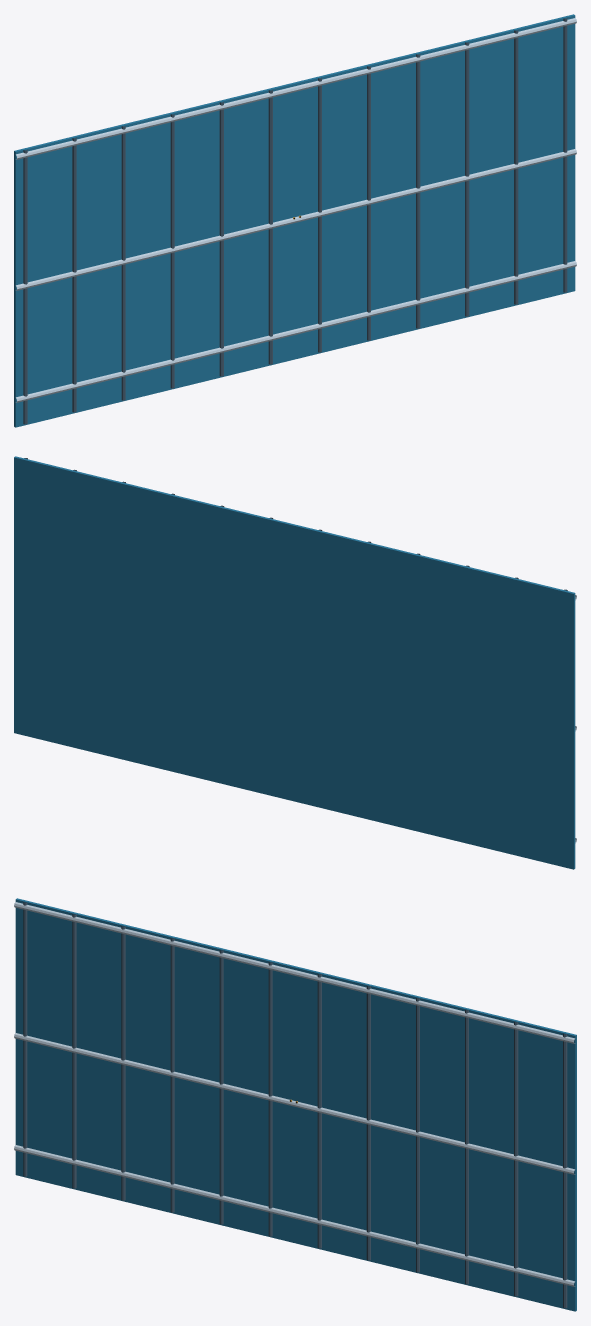
File: 01_L92_PanoramicKhepri7ObservationWindow.fbx
3 renders of one model, top to bottom at view 1: azimuth 30°, elevation 25°; view 2: azimuth 150°, elevation 25°; view 3: azimuth 330°, elevation 25°, orthographic.
Parts seen in each view (by area): view 1: L92_PanoramicKhepri7ObservationWindow; view 2: L92_PanoramicKhepri7ObservationWindow; view 3: L92_PanoramicKhepri7ObservationWindow.
Boxes of the visible parts, bbox=[...] form: L92_PanoramicKhepri7ObservationWindow: bbox=[14, 14, 576, 427]; L92_PanoramicKhepri7ObservationWindow: bbox=[14, 456, 576, 869]; L92_PanoramicKhepri7ObservationWindow: bbox=[14, 898, 576, 1311].
Bounding box in the file's own units: 3400 × 1600 × 37.2.
